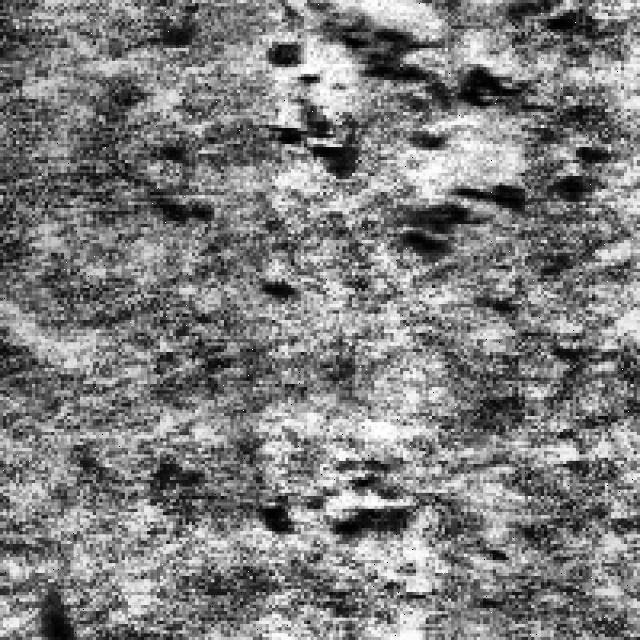Crazing: (256, 0, 595, 259), (250, 451, 428, 544)
